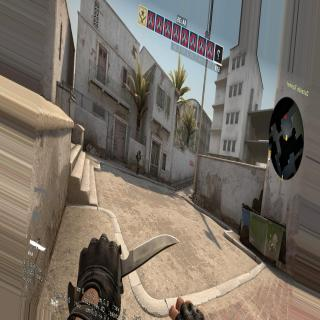CT-Body: (136, 148, 142, 174)
CT-Head: (139, 150, 141, 154)
